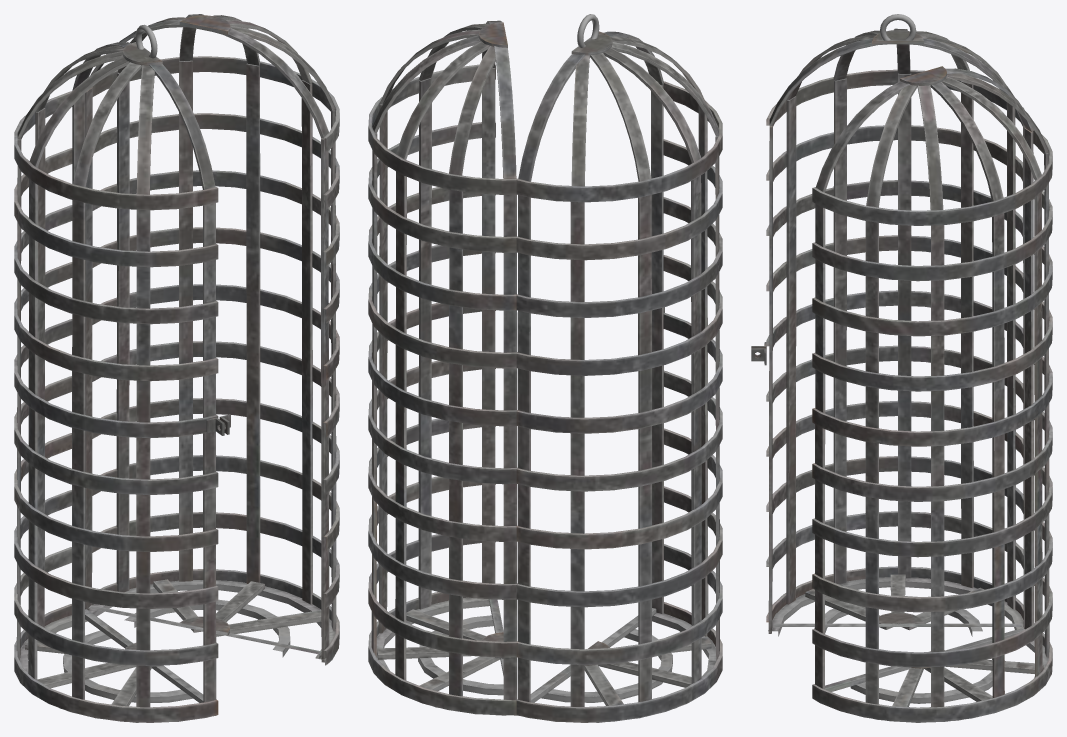
Rendered from SM_Gibbet_Cage_Open.glb.
The picture shows the model from 3 angles, left to right: view 1: azimuth 30°, elevation 25°; view 2: azimuth 150°, elevation 25°; view 3: azimuth 270°, elevation 25°; orthographic projection. The views are drawn at different scales.
Parts seen in each view (by area): view 1: SM_Gibbet_Cage_Open; view 2: SM_Gibbet_Cage_Open; view 3: SM_Gibbet_Cage_Open.
Boxes of the visible parts, <box> form: SM_Gibbet_Cage_Open: <box>14,14,339,722</box>; SM_Gibbet_Cage_Open: <box>368,14,722,722</box>; SM_Gibbet_Cage_Open: <box>751,14,1052,722</box>.
Bounding box in the file's own units: 1.11 × 2.25 × 0.9899.
1 material, 1 textured.
